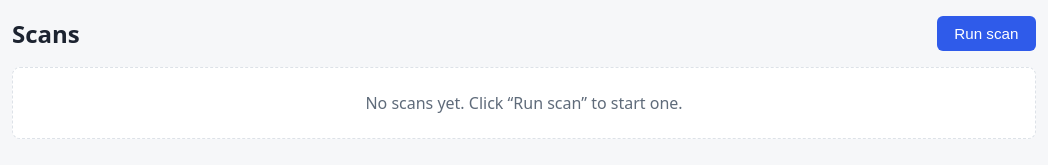
Scenario: ScansPage › starts a scan and shows it as running
Expected: the text "No scans yet. Click “Run scan” to start one." is shown, [12,67,1036,139]
Click the button "Run scan".
click(986, 33)  # box [937,16,1036,51]
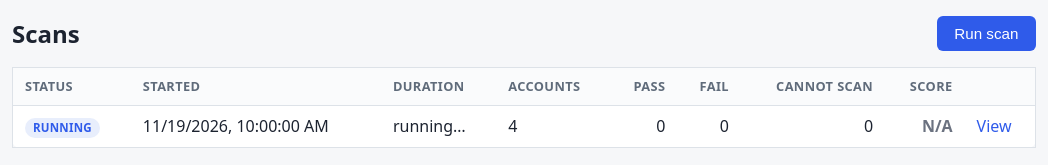
Result: the text "RUNNING" is shown at [25,118,100,138]
Result: the text "running…" is shown at [381,105,496,148]
